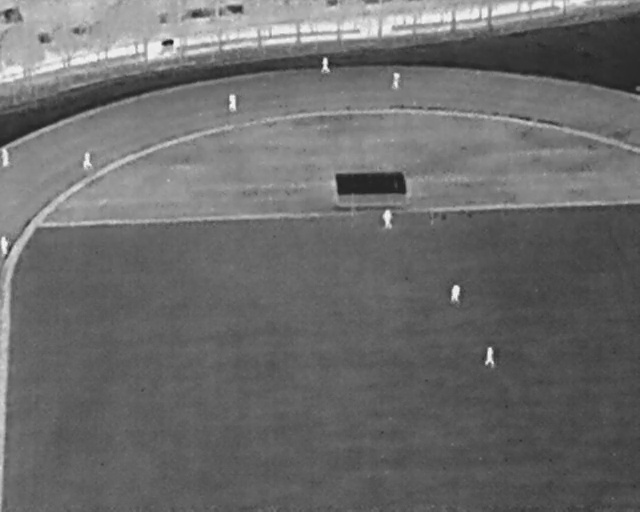Person: (382, 209, 393, 229), (485, 347, 495, 368), (0, 235, 9, 255), (83, 151, 92, 170), (228, 93, 237, 112), (451, 285, 460, 304), (1, 148, 9, 168), (391, 73, 400, 89), (321, 57, 330, 73)
